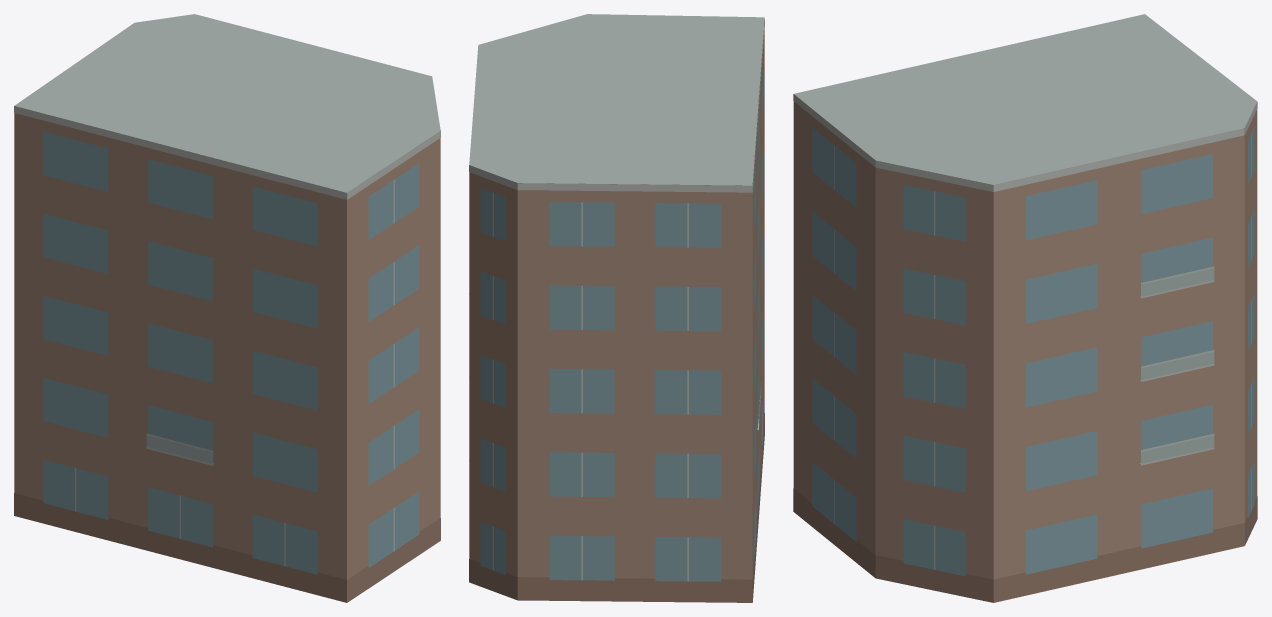
The model's file is survey-upis-33021300.glb.
3 renders of one model, left to right at view 1: azimuth 30°, elevation 25°; view 2: azimuth 150°, elevation 25°; view 3: azimuth 270°, elevation 25°, orthographic.
Parts seen in each view (by area): view 1: survey-upis-33021300.tmp; view 2: survey-upis-33021300.tmp; view 3: survey-upis-33021300.tmp.
Part boxes in pixels (x1,y1,x2,y2): survey-upis-33021300.tmp: [14, 14, 440, 602]; survey-upis-33021300.tmp: [469, 14, 764, 602]; survey-upis-33021300.tmp: [793, 14, 1257, 602].
Bounding box in the file's own units: 12.6 × 14.35 × 14.45.
